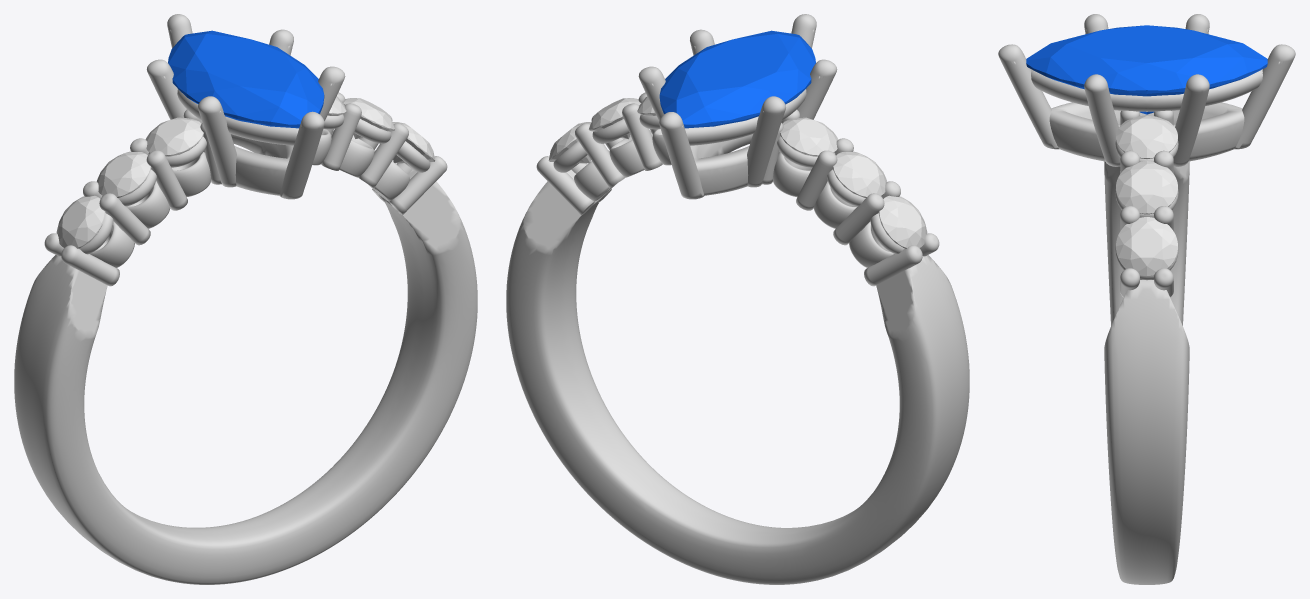
Rendered from bluesapphire-marquise-platinum-6prong-straighttaperedband-7stone.glb.
The picture shows the model from 3 angles, left to right: view 1: azimuth 30°, elevation 25°; view 2: azimuth 150°, elevation 25°; view 3: azimuth 270°, elevation 25°; orthographic projection.
Parts seen in each view (by area): view 1: metal.001, stone.001, side.001, side.008, side.009, side.011, side.010; view 2: metal.001, stone.001, side.001, side.008, side.009, side.011, side.010; view 3: metal.001, stone.001, side.010, side.011, side.012.
Boxes of the visible parts, bbox=[...] form: metal.001: bbox=[14, 14, 477, 584]; stone.001: bbox=[168, 30, 324, 128]; side.001: bbox=[56, 195, 105, 248]; side.008: bbox=[96, 151, 151, 197]; side.009: bbox=[145, 117, 203, 156]; side.011: bbox=[343, 98, 394, 138]; side.010: bbox=[392, 122, 435, 163]; metal.001: bbox=[506, 14, 969, 584]; stone.001: bbox=[659, 30, 815, 128]; side.001: bbox=[878, 195, 927, 248]; side.008: bbox=[832, 151, 886, 197]; side.009: bbox=[780, 117, 838, 156]; side.011: bbox=[589, 98, 640, 139]; side.010: bbox=[548, 122, 591, 163]; metal.001: bbox=[998, 14, 1295, 584]; stone.001: bbox=[1026, 25, 1267, 114]; side.010: bbox=[1116, 217, 1177, 276]; side.011: bbox=[1116, 161, 1177, 214]; side.012: bbox=[1116, 115, 1177, 158].
Bounding box in the file's own units: 20.51 × 22.93 × 11.96.
